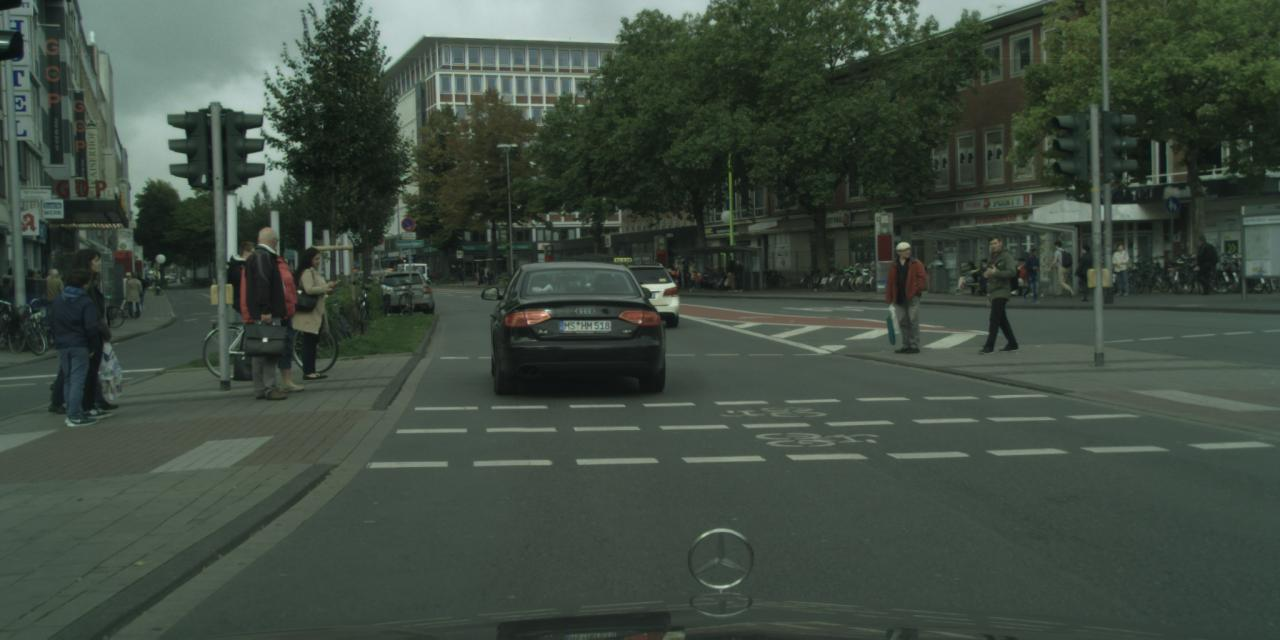ped: (233, 226, 303, 400), (52, 248, 121, 417), (48, 264, 113, 424), (240, 234, 303, 389), (54, 263, 115, 413), (284, 246, 338, 378), (971, 236, 1019, 351), (236, 242, 283, 358), (882, 241, 928, 351), (41, 267, 67, 332), (1191, 232, 1216, 294), (1073, 244, 1096, 299), (1050, 241, 1072, 296), (1020, 248, 1042, 301), (1111, 244, 1131, 294), (124, 270, 142, 318), (120, 270, 138, 314), (130, 272, 146, 309), (724, 254, 738, 290), (732, 259, 744, 290), (688, 260, 700, 290), (671, 258, 682, 289), (680, 261, 691, 290), (684, 260, 695, 286), (478, 266, 484, 284)
